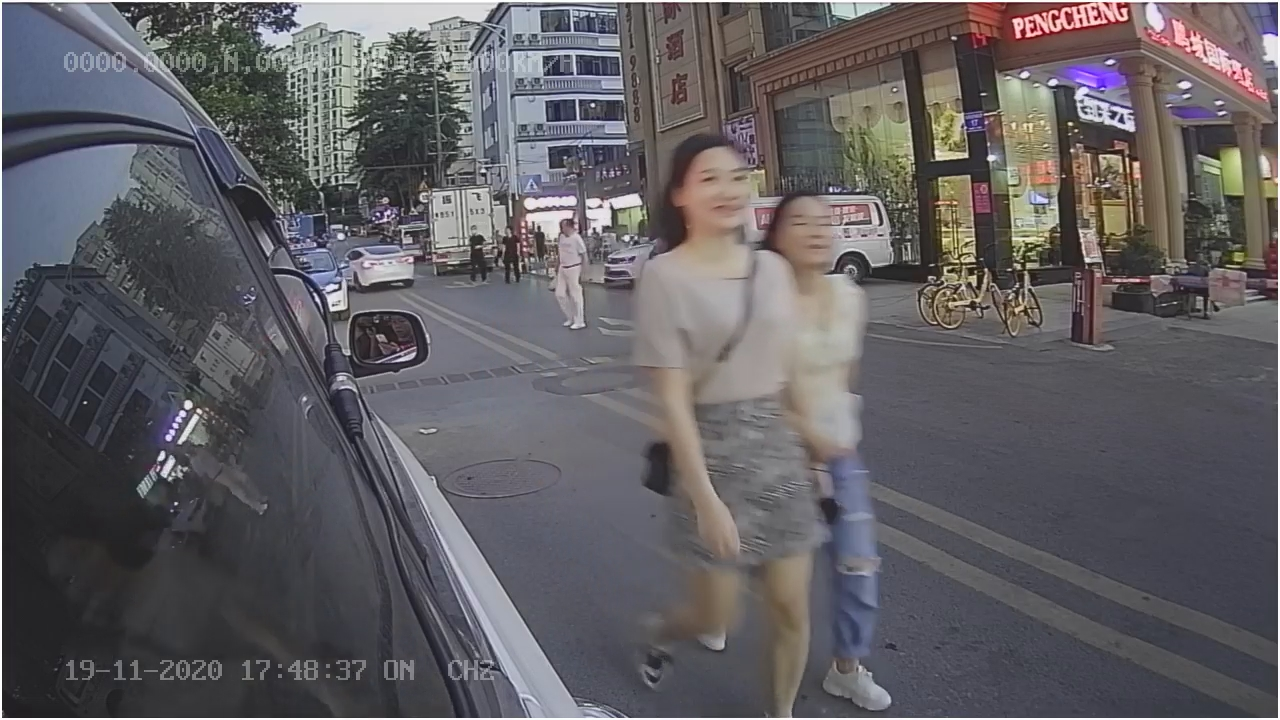person: (623, 130, 837, 692)
